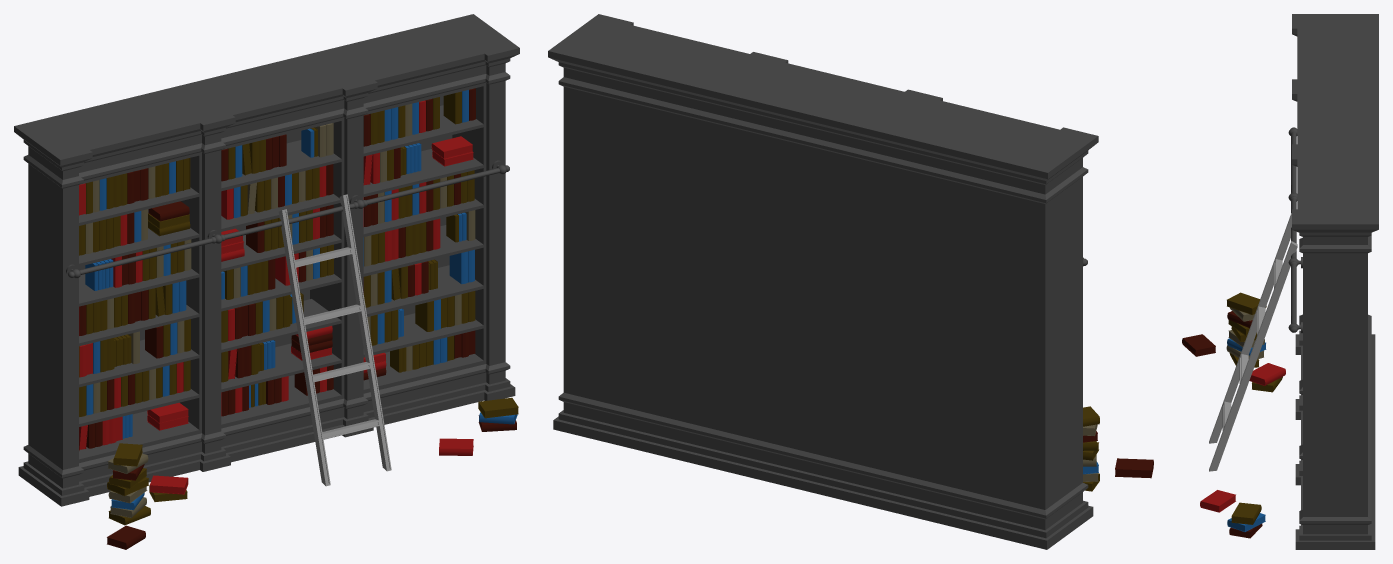
File: bookcase.FBX
3 renders of one model, left to right at view 1: azimuth 30°, elevation 25°; view 2: azimuth 150°, elevation 25°; view 3: azimuth 270°, elevation 25°, orthographic. The views are drawn at different scales.
Parts seen in each view (by area): view 1: bookcase, stairs, book335, book332, book243, book334, book338; view 2: bookcase, book334; view 3: bookcase, stairs, book338, book332, book334, book335, book331, book336.
Part boxes in pixels (x1=…): bookcase: x1=14, y1=14, x2=519, y2=506; stairs: x1=278, y1=194, x2=391, y2=486; book335: x1=478, y1=397, x2=518, y2=418; book332: x1=149, y1=475, x2=188, y2=494; book243: x1=431, y1=136, x2=472, y2=158; book334: x1=107, y1=525, x2=145, y2=549; book338: x1=439, y1=438, x2=473, y2=455; bookcase: x1=548, y1=14, x2=1098, y2=549; book334: x1=1115, y1=458, x2=1153, y2=478; bookcase: x1=1288, y1=14, x2=1378, y2=549; stairs: x1=1209, y1=213, x2=1297, y2=471; book338: x1=1200, y1=490, x2=1235, y2=512; book332: x1=1249, y1=363, x2=1285, y2=385; book334: x1=1182, y1=334, x2=1215, y2=356; book335: x1=1231, y1=502, x2=1261, y2=524; book331: x1=1227, y1=292, x2=1266, y2=314; book336: x1=1227, y1=513, x2=1265, y2=532.
Size of the model in its own units: 2.74 by 1.98 by 1.08.
